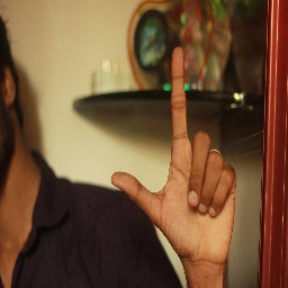L: (114, 47, 243, 257)
